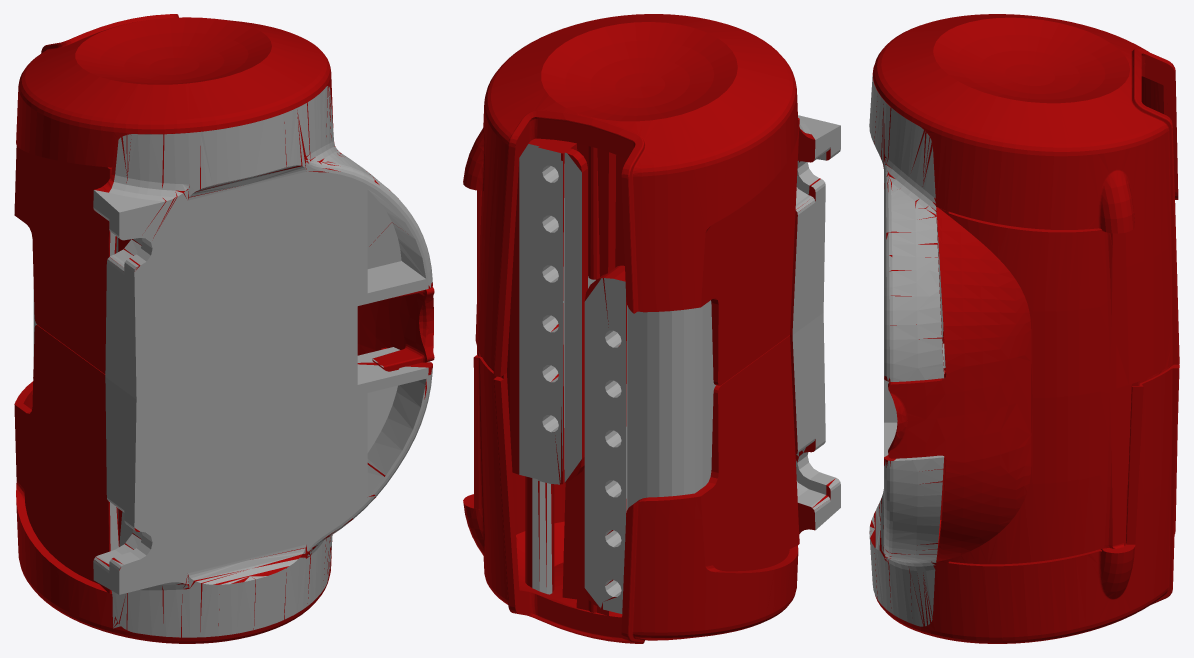
The model's file is electric_gripper_base.fbx.
The picture shows the model from 3 angles, left to right: view 1: azimuth 30°, elevation 25°; view 2: azimuth 150°, elevation 25°; view 3: azimuth 270°, elevation 25°; orthographic projection.
Visible parts, largest first — view 1: _0031555; view 2: _0031555; view 3: _0031555.
Boxes of the visible parts, bbox=[...] form: _0031555: bbox=[14, 14, 434, 643]; _0031555: bbox=[463, 14, 840, 643]; _0031555: bbox=[869, 14, 1179, 643].
Bounding box in the file's own units: 0.0659 × 0.0534 × 0.1055.
